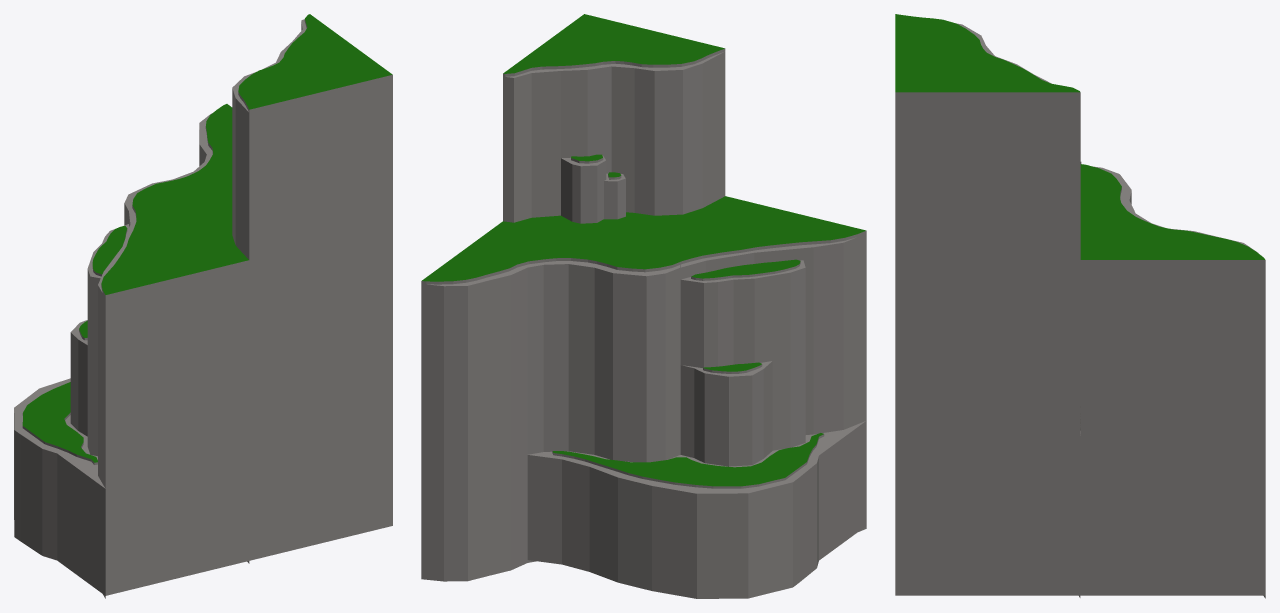
The model's file is StairCorner.fbx.
3 renders of one model, left to right at view 1: azimuth 30°, elevation 25°; view 2: azimuth 150°, elevation 25°; view 3: azimuth 270°, elevation 25°, orthographic. The views are drawn at different scales.
Parts seen in each view (by area): view 1: Plane.018; view 2: Plane.018; view 3: Plane.018.
Boxes of the visible parts, x1,y1,x2,y2 form: Plane.018: (14, 14, 392, 598); Plane.018: (421, 14, 866, 598); Plane.018: (895, 14, 1265, 598).
Size of the model in its own units: 51.41 by 75.5 by 50.
